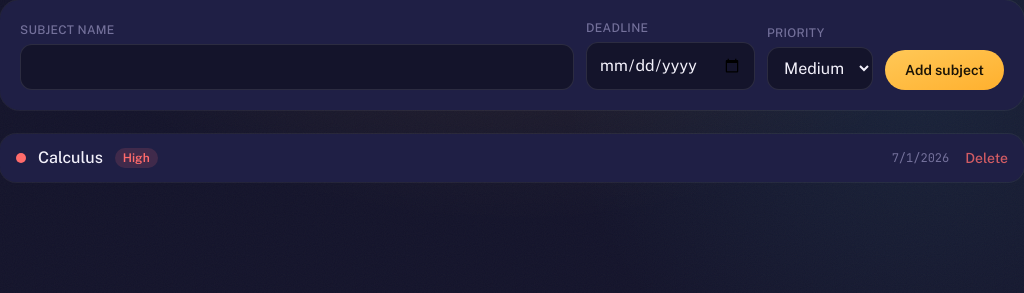
SubjectManager › deletes a subject
This screenshot has width=1024, height=293.
Check: the text "Calculus" is shown, box x1=38 y1=146 x2=103 y2=170
Click the button with aria-label "delete calculus" at (987, 158), box x1=965 y1=148 x2=1008 y2=168
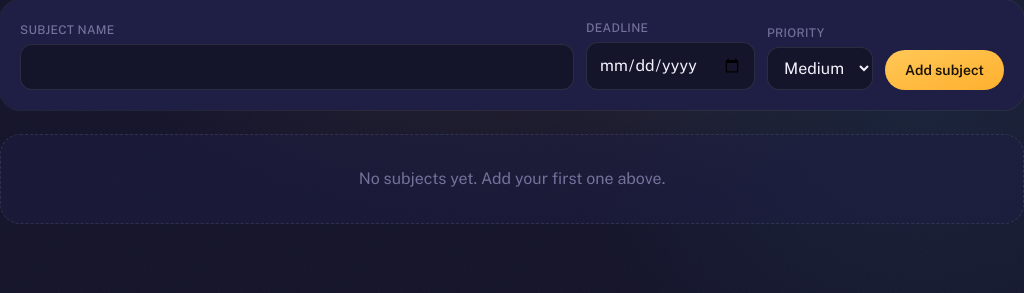
Check: the text "Calculus" is gone
